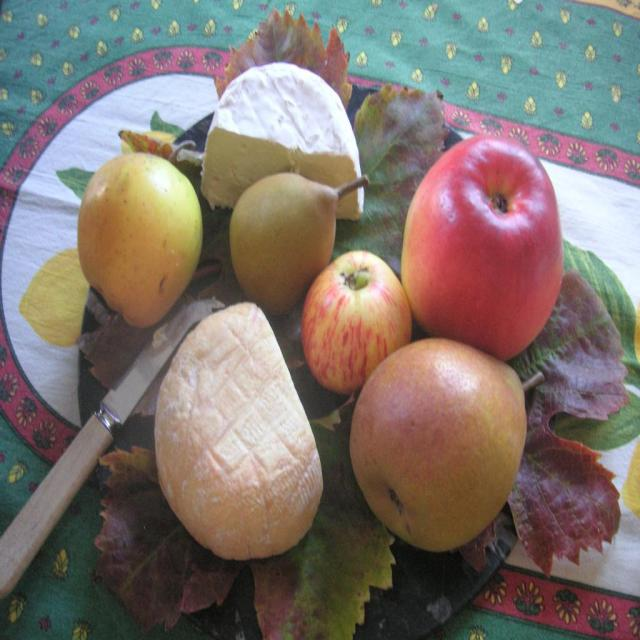Healty Apple: (393, 140, 566, 373), (76, 150, 202, 326), (302, 250, 415, 392)
